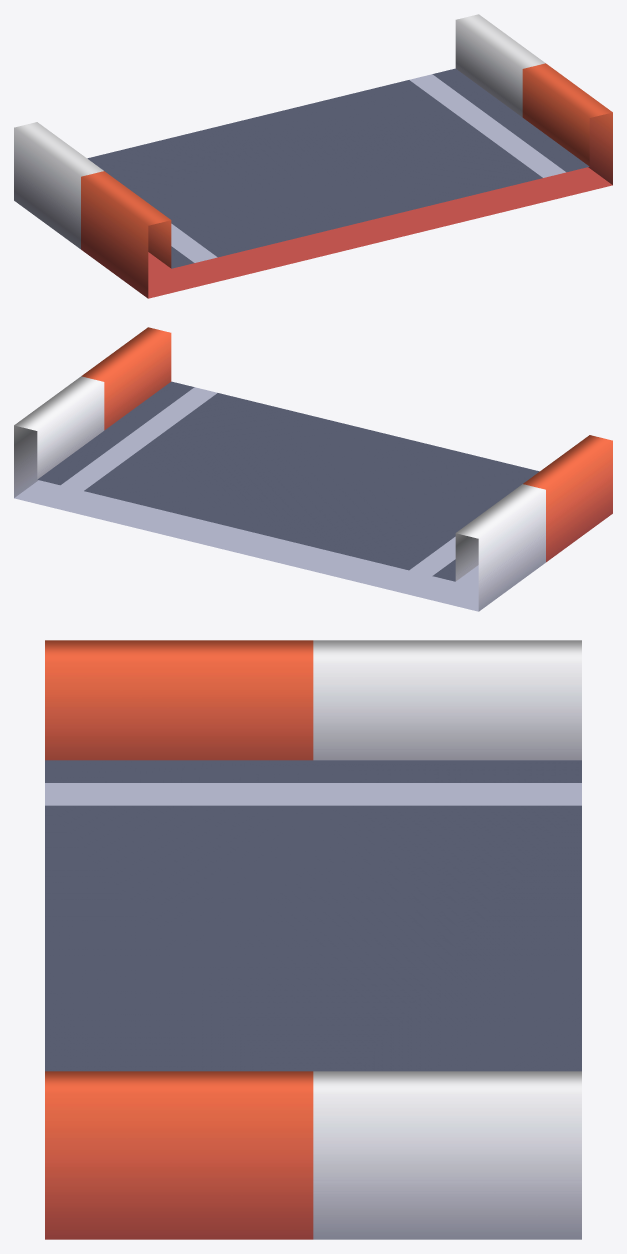
The model's file is track-road-wide.glb.
3 renders of one model, top to bottom at view 1: azimuth 30°, elevation 25°; view 2: azimuth 150°, elevation 25°; view 3: azimuth 270°, elevation 25°, orthographic. The views are drawn at different scales.
Visible parts, largest first — view 1: track-road-wide; view 2: track-road-wide; view 3: track-road-wide.
Boxes of the visible parts, left/top/right/bottom form: track-road-wide: left=14, top=14, right=612, bottom=298; track-road-wide: left=14, top=327, right=612, bottom=611; track-road-wide: left=45, top=640, right=581, bottom=1239.
Size of the model in its own units: 2 by 0.2999 by 1.
Materials: 1 (1 with a texture image).
